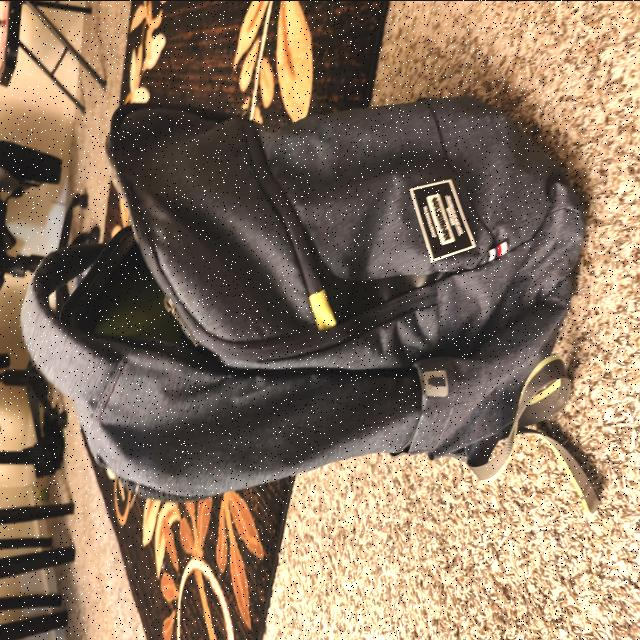bag: (38, 102, 594, 470)
